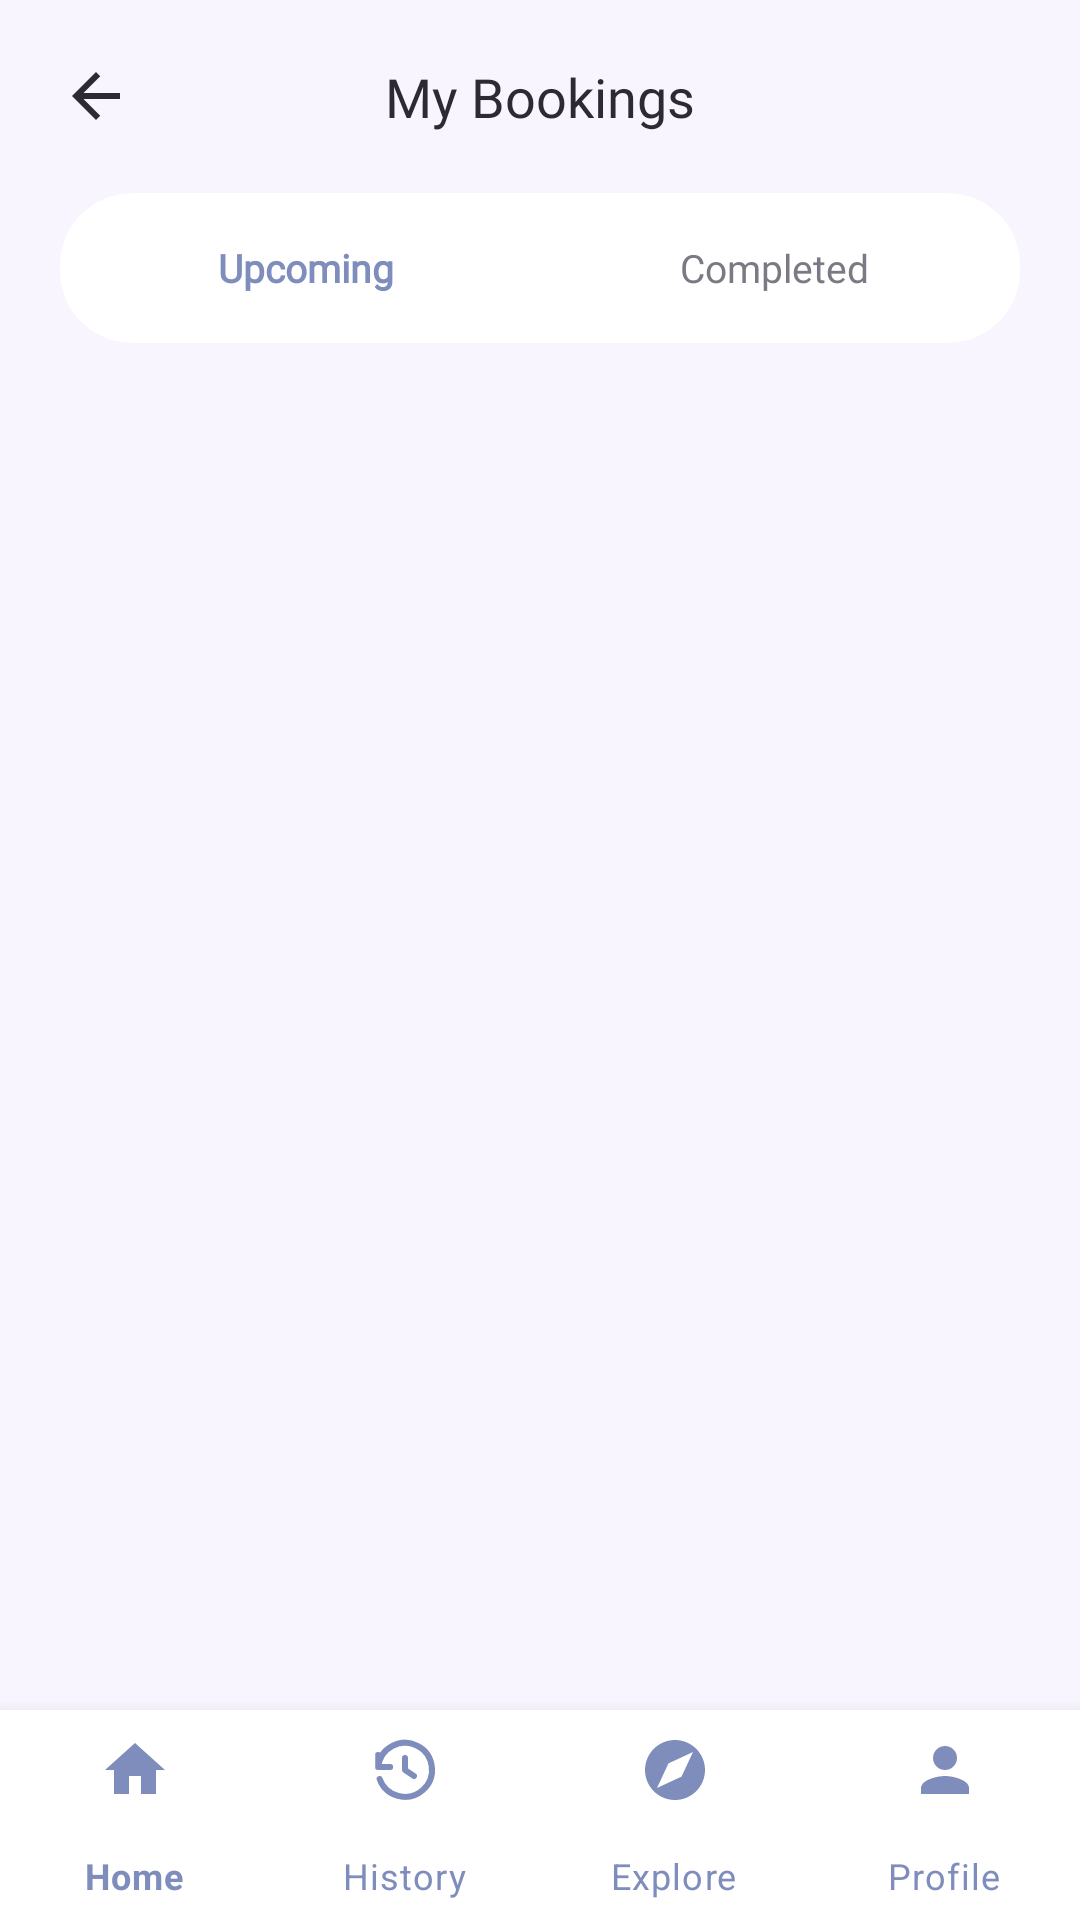

Icons on this 1080*1920 Android screen, each with the point to tap as (x=x, y=y):
back: (x=96, y=96)
